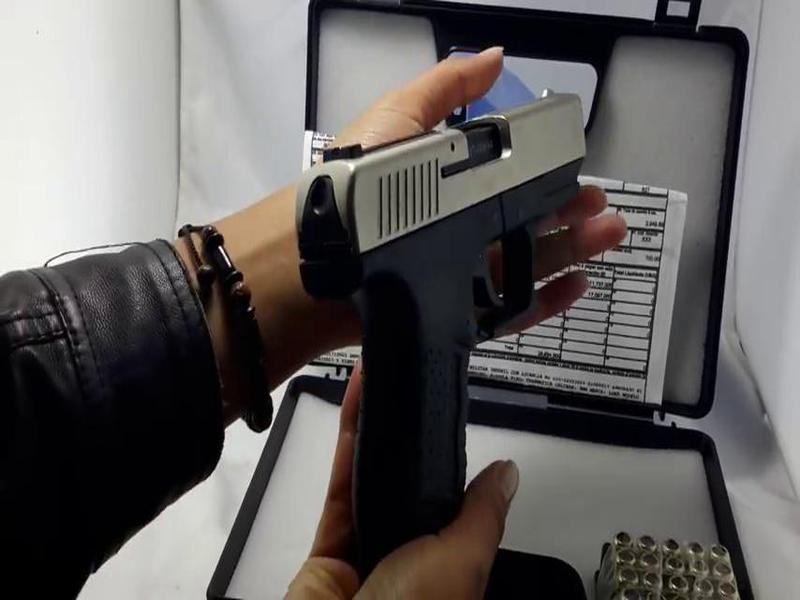Pistola: (292, 66, 609, 600)
